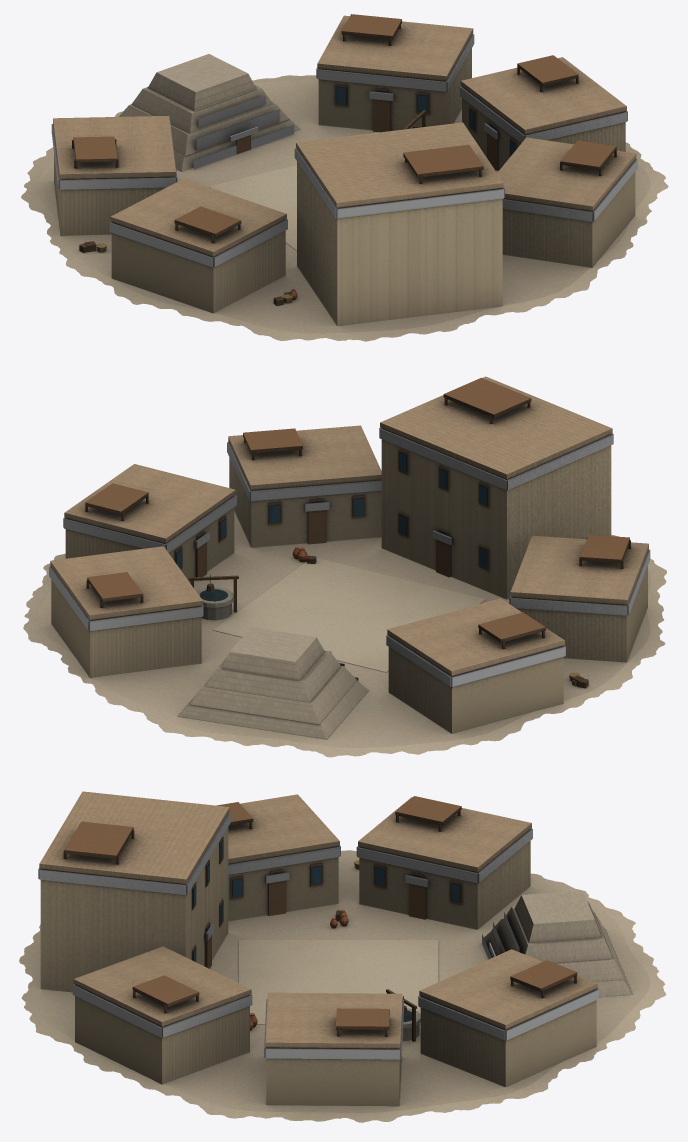
File: bronze-town-small-b-nile.glb
The picture shows the model from 3 angles, top to bottom: view 1: azimuth 30°, elevation 25°; view 2: azimuth 150°, elevation 25°; view 3: azimuth 270°, elevation 25°; orthographic projection.
Parts seen in each view (by area): view 1: LOD0; view 2: LOD0; view 3: LOD0.
Boxes of the visible parts, <box> form: LOD0: <box>21,14,668,341</box>; LOD0: <box>23,376,666,757</box>; LOD0: <box>19,791,666,1122</box>.
Size of what is drawn, in the model's own units: 3.95 by 0.9282 by 3.97.
Materials: 3 (3 with a texture image).
